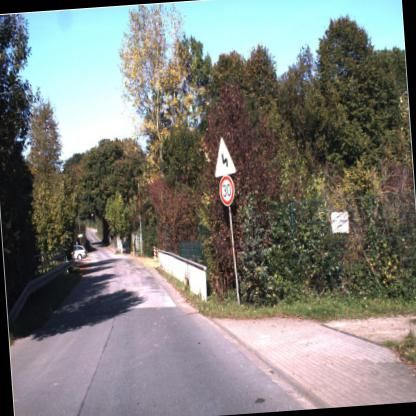danger: (208, 134, 239, 182)
prohibitory: (218, 176, 240, 210)
